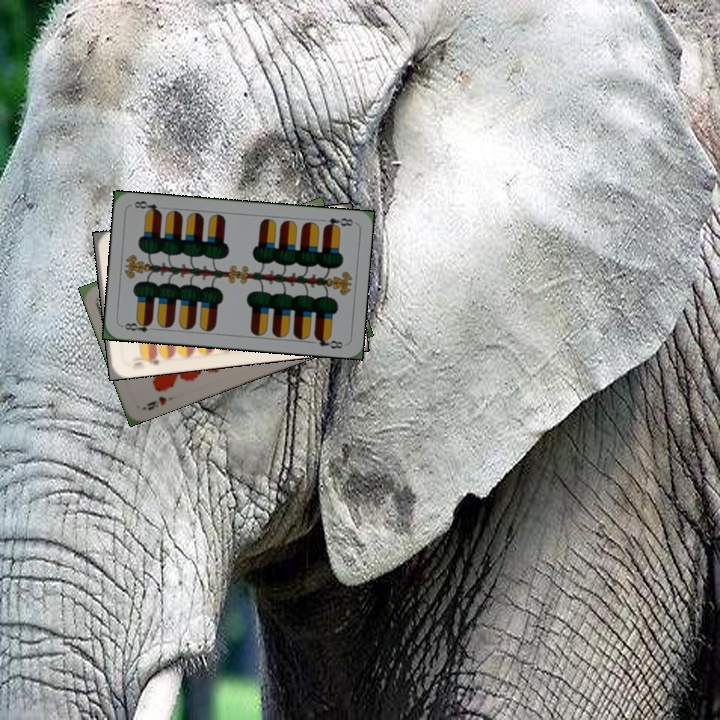E10: (128, 350, 161, 368)
E8: (119, 317, 159, 335), (319, 213, 355, 232)
H9: (139, 392, 169, 413)
